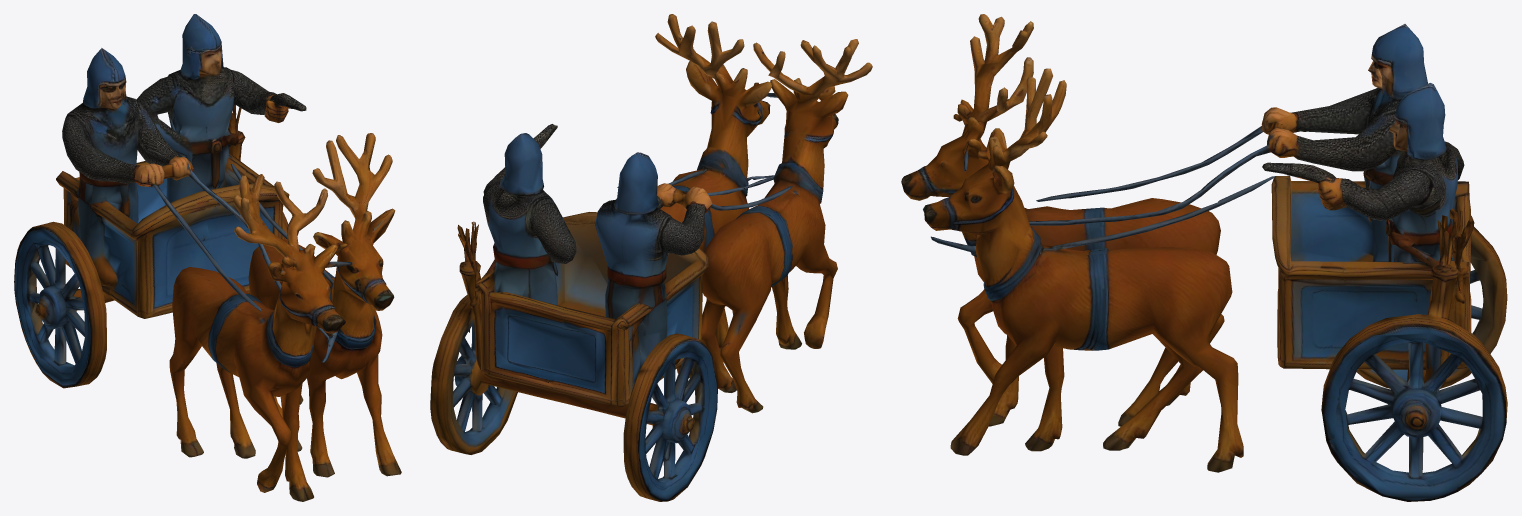
3 views of the same model, side by side, from view 1: azimuth 30°, elevation 25°; view 2: azimuth 150°, elevation 25°; view 3: azimuth 270°, elevation 25° (orthographic). The views are drawn at different scales.
Visible parts, largest first — view 1: tripo_node_468fe3a0-0b4d-4568-b7e0-aec11001cd1b; view 2: tripo_node_468fe3a0-0b4d-4568-b7e0-aec11001cd1b; view 3: tripo_node_468fe3a0-0b4d-4568-b7e0-aec11001cd1b.
Part boxes in pixels (x1=…): tripo_node_468fe3a0-0b4d-4568-b7e0-aec11001cd1b: x1=14, y1=14, x2=401, y2=501; tripo_node_468fe3a0-0b4d-4568-b7e0-aec11001cd1b: x1=430, y1=14, x2=872, y2=501; tripo_node_468fe3a0-0b4d-4568-b7e0-aec11001cd1b: x1=901, y1=14, x2=1507, y2=501.
Size of the model in its own units: 0.5284 by 0.7041 by 0.9997.
Materials: 1 (1 with a texture image).
